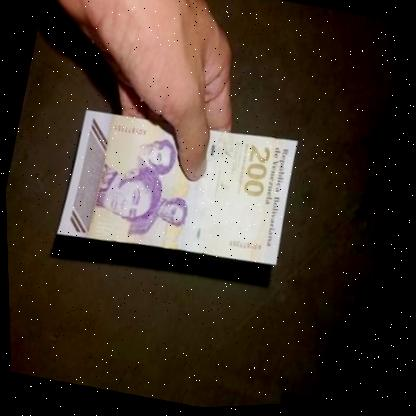two_hundred-front-vef: (51, 92, 303, 285)
